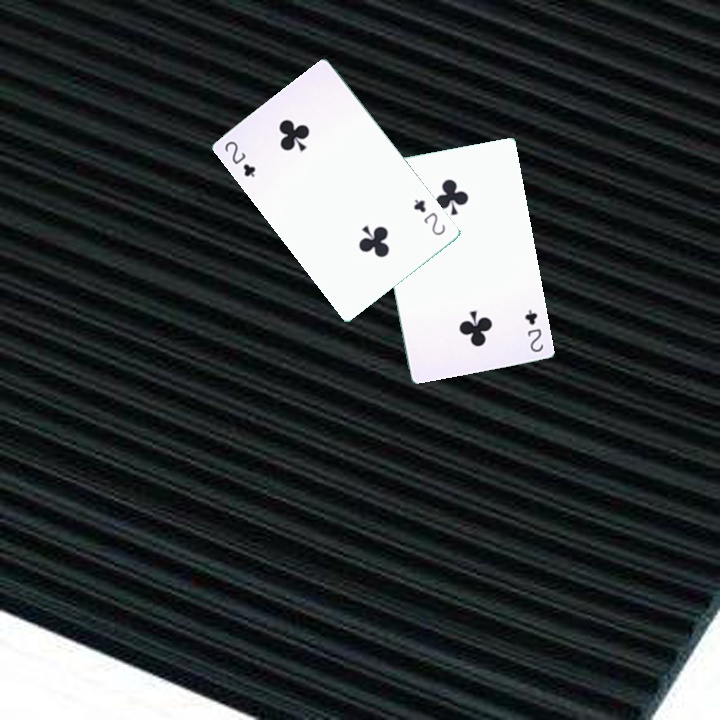2c: (409, 195, 448, 238), (220, 137, 258, 180), (520, 305, 546, 355)
